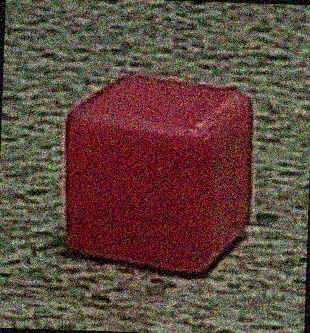red_cube: (56, 65, 268, 288)
